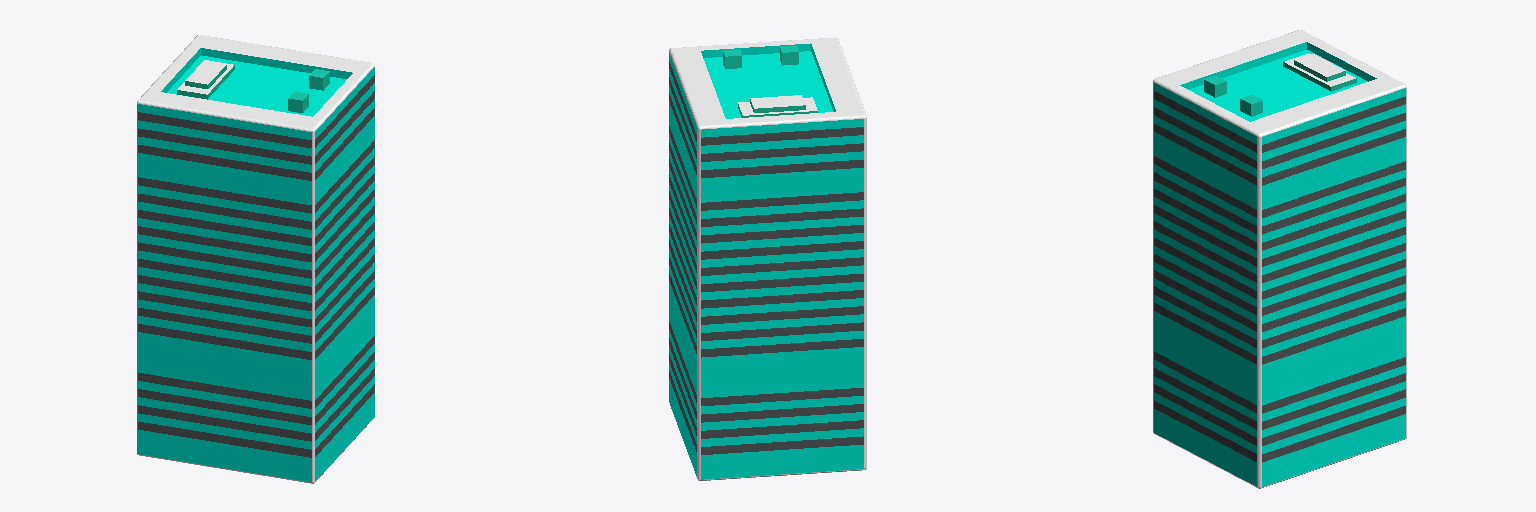
Rendered from init_map_build3.obj.
3 renders of one model, left to right at view 1: azimuth 30°, elevation 25°; view 2: azimuth 150°, elevation 25°; view 3: azimuth 270°, elevation 25°, orthographic.
Visible parts, largest first — view 1: 立方体.4_1, 立方体.2, 立方体.1; view 2: 立方体.4_1, 立方体.2, 立方体.1; view 3: 立方体.4_1, 立方体.2, 立方体.1.
Part boxes in pixels (bbox=[...]): 立方体.4_1: bbox=[137, 35, 374, 483]; 立方体.2: bbox=[185, 60, 226, 88]; 立方体.1: bbox=[177, 60, 234, 99]; 立方体.4_1: bbox=[669, 37, 866, 480]; 立方体.2: bbox=[750, 95, 805, 112]; 立方体.1: bbox=[738, 97, 817, 117]; 立方体.4_1: bbox=[1153, 30, 1406, 488]; 立方体.2: bbox=[1294, 54, 1345, 81]; 立方体.1: bbox=[1283, 53, 1356, 91].
Size of the model in its own units: 57.8 by 91.66 by 58.46.